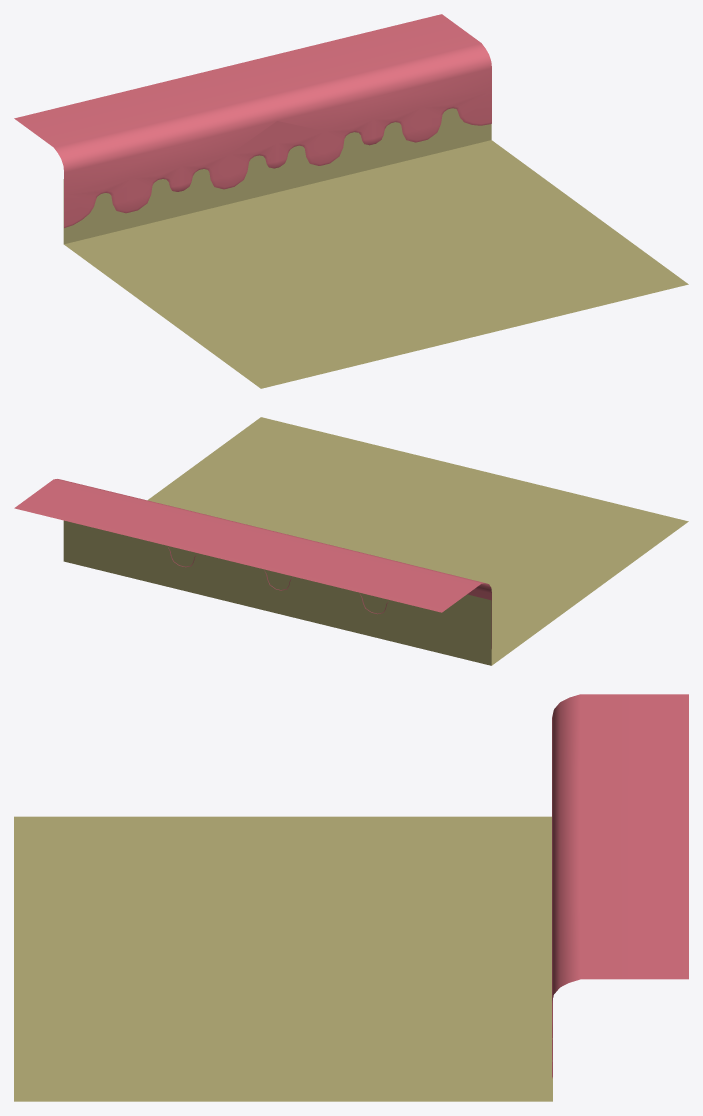
Rendered from SM_Tile_Wall.fbx.
3 renders of one model, top to bottom at view 1: azimuth 30°, elevation 25°; view 2: azimuth 150°, elevation 25°; view 3: azimuth 270°, elevation 25°, orthographic. The views are drawn at different scales.
Parts seen in each view (by area): view 1: SM_Tile_Wall; view 2: SM_Tile_Wall; view 3: SM_Tile_Wall.
Part boxes in pixels (bbox=[...]): SM_Tile_Wall: bbox=[14, 14, 688, 388]; SM_Tile_Wall: bbox=[14, 417, 688, 665]; SM_Tile_Wall: bbox=[14, 694, 688, 1101].
Size of the model in its own units: 446 by 89.14 by 446.
